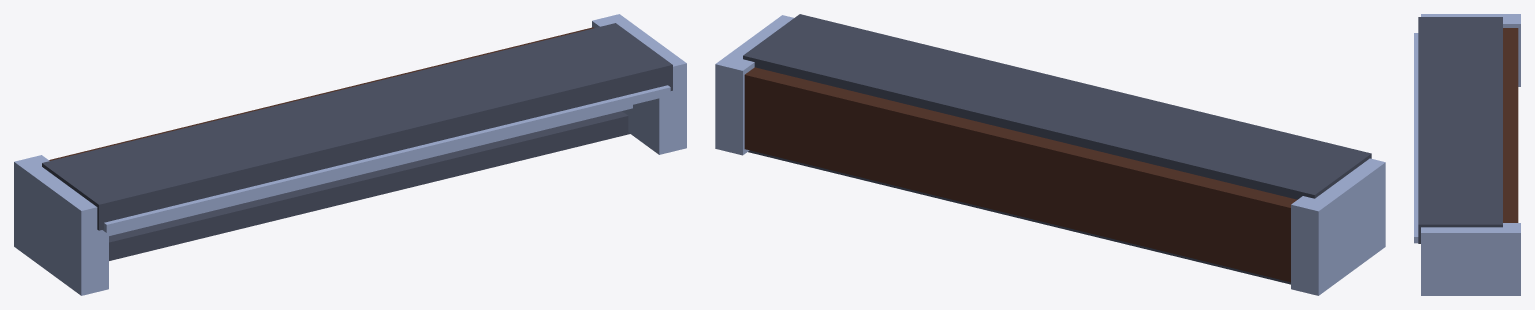
File: rack_obsidian.glb
The picture shows the model from 3 angles, left to right: view 1: azimuth 30°, elevation 25°; view 2: azimuth 150°, elevation 25°; view 3: azimuth 270°, elevation 25°; orthographic projection. The views are drawn at different scales.
Visible parts, largest first — view 1: rack_back, rack_front, rack_left_cap, rack_top_trim, rack_right_cap, rack_middle_shelf, rack_base; view 2: rack_base, rack_back, rack_left_cap, rack_right_cap, rack_front; view 3: rack_back, rack_right_cap, rack_base, rack_top_trim, rack_left_cap.
Boxes of the visible parts, x1,y1,x2,y2 form: rack_back: (42, 23, 672, 230); rack_front: (109, 111, 629, 260); rack_left_cap: (14, 155, 108, 295); rack_top_trim: (103, 85, 670, 232); rack_right_cap: (592, 14, 686, 154); rack_middle_shelf: (109, 105, 632, 235); rack_base: (49, 27, 594, 160); rack_base: (744, 67, 1297, 282); rack_back: (743, 14, 1371, 199); rack_left_cap: (1291, 158, 1385, 295); rack_right_cap: (715, 15, 793, 155); rack_front: (748, 150, 1290, 284); rack_back: (1418, 17, 1502, 243); rack_right_cap: (1421, 223, 1520, 295); rack_base: (1503, 28, 1518, 222); rack_top_trim: (1414, 33, 1418, 243); rack_left_cap: (1421, 14, 1520, 86).
Bounding box in the file's own units: 6.12 × 0.875 × 1.26.
